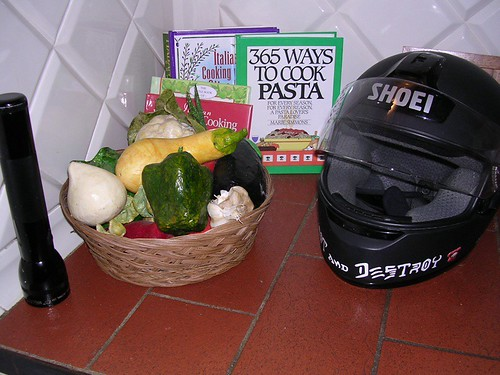helmet: (325, 45, 494, 287)
